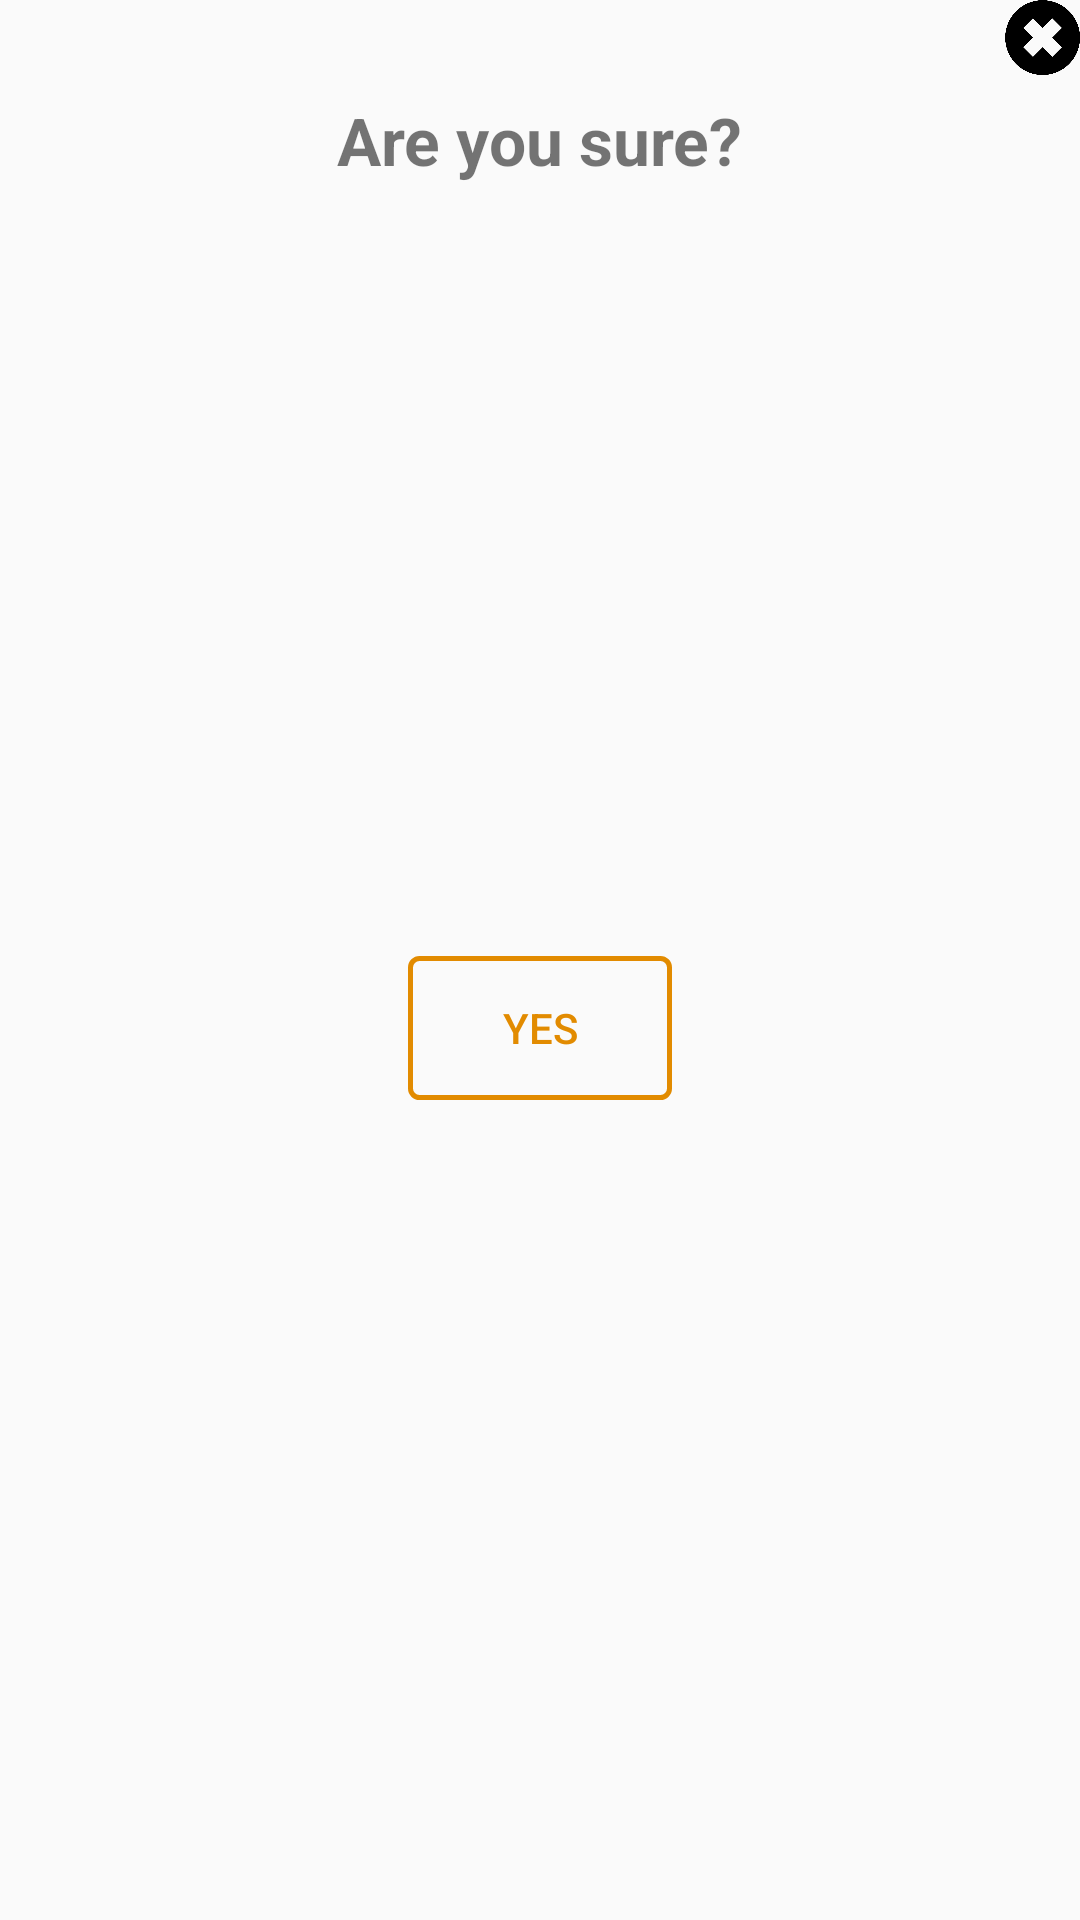

Point at icon controls on the screen. Image size 1080w x 1920h, points as point (x, y).
closeicon: point (1042, 37)
